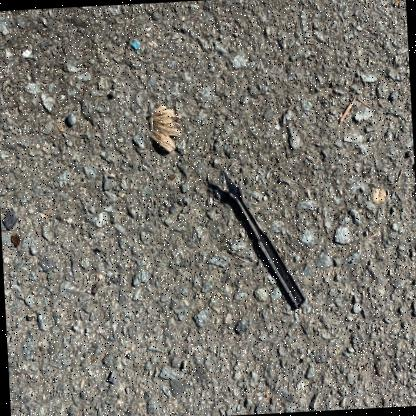Broken glass: (11, 234, 20, 246), (92, 284, 97, 293), (361, 365, 365, 370), (91, 356, 94, 361), (397, 0, 399, 3)
Other plastic bottle: (21, 49, 31, 58), (131, 40, 140, 49)
Plastic utensils: (223, 170, 305, 308)
